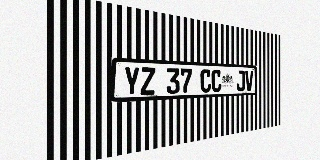3: (167, 68, 180, 94)
7: (180, 68, 192, 94)
C: (200, 69, 211, 93), (211, 69, 221, 92)
J: (236, 70, 245, 91)
V: (245, 71, 253, 91)
Y: (124, 66, 140, 96)
Z: (140, 67, 155, 95)
